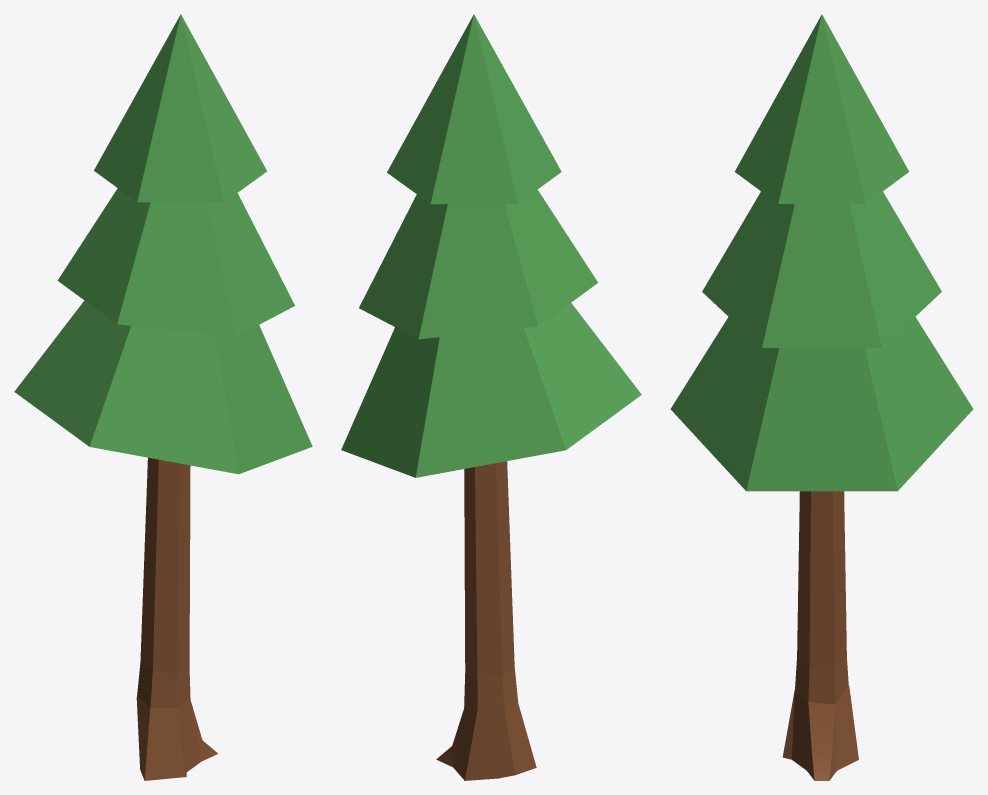
Rendered from fir_01_split_grp.fbx.
3 views of the same model, side by side, from view 1: azimuth 30°, elevation 25°; view 2: azimuth 150°, elevation 25°; view 3: azimuth 270°, elevation 25° (orthographic).
Parts seen in each view (by area): view 1: fir_01_split_01, fir_01_split_05, fir_01_split_04, fir_01_split_02, fir_01_split_03; view 2: fir_01_split_01, fir_01_split_05, fir_01_split_04, fir_01_split_02, fir_01_split_03; view 3: fir_01_split_01, fir_01_split_05, fir_01_split_04, fir_01_split_03, fir_01_split_02.
Boxes of the visible parts, box(x1,y1,x2,y2) form: fir_01_split_01: box(14, 14, 312, 486); fir_01_split_05: box(136, 697, 217, 780); fir_01_split_04: box(137, 623, 190, 708); fir_01_split_02: box(144, 478, 190, 563); fir_01_split_03: box(142, 553, 189, 633); fir_01_split_01: box(341, 14, 641, 489); fir_01_split_05: box(436, 704, 536, 780); fir_01_split_04: box(464, 628, 518, 714); fir_01_split_02: box(464, 481, 510, 567); fir_01_split_03: box(464, 558, 513, 638); fir_01_split_01: box(670, 14, 973, 491); fir_01_split_05: box(782, 685, 858, 780); fir_01_split_04: box(795, 618, 848, 704); fir_01_split_03: box(797, 549, 846, 628); fir_01_split_02: box(799, 491, 844, 558).
Bounding box in the file's own units: 209 × 667 × 244.
